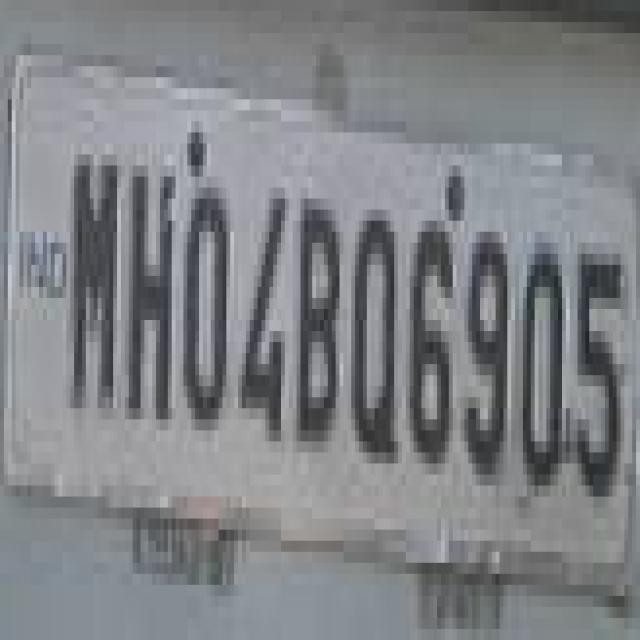license_plate: (0, 33, 613, 563)
